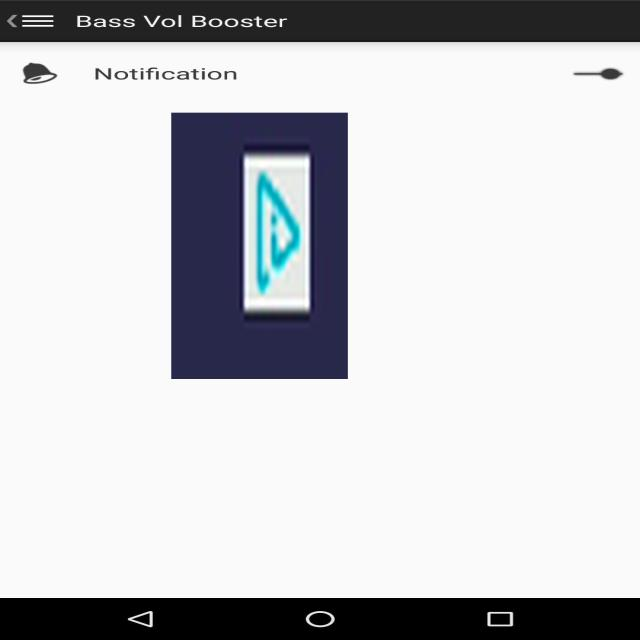sneaking: (171, 113, 348, 379)
